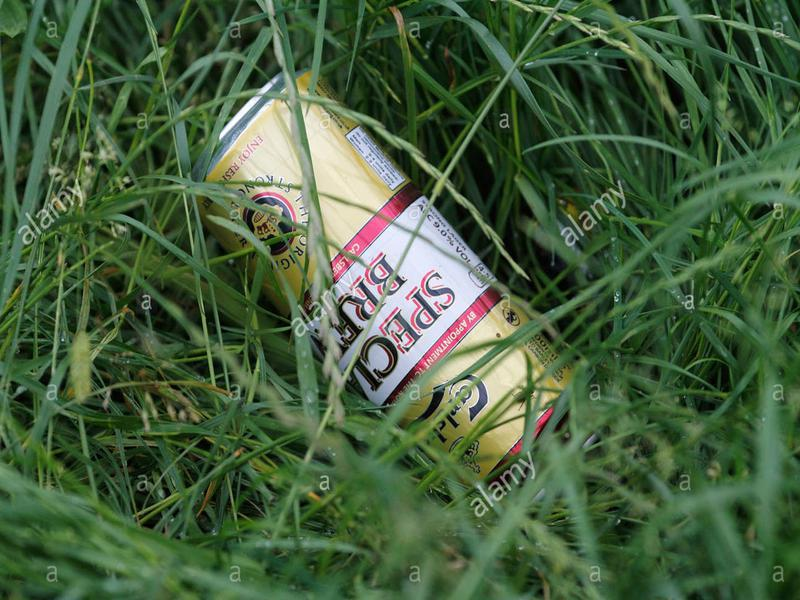can: (177, 62, 599, 503)
